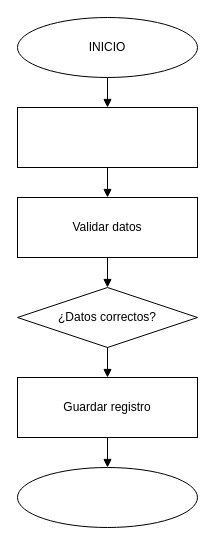
Some shapes in this 215 by 545 pixel diagram are drawn without their labels. The shapes that lost their labels are listed below. From the top down, each one's centre as x and y in pixels, then its label:
[107,137]: Ingresar datos
[107,497]: FIN
